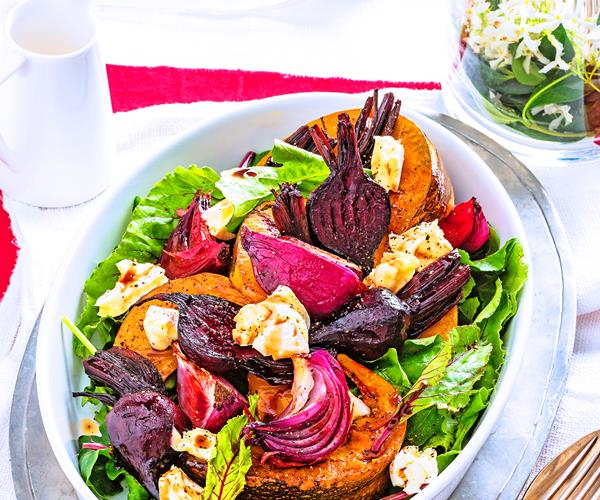chopped lettuce: (397, 250, 531, 461), (70, 173, 223, 348)
